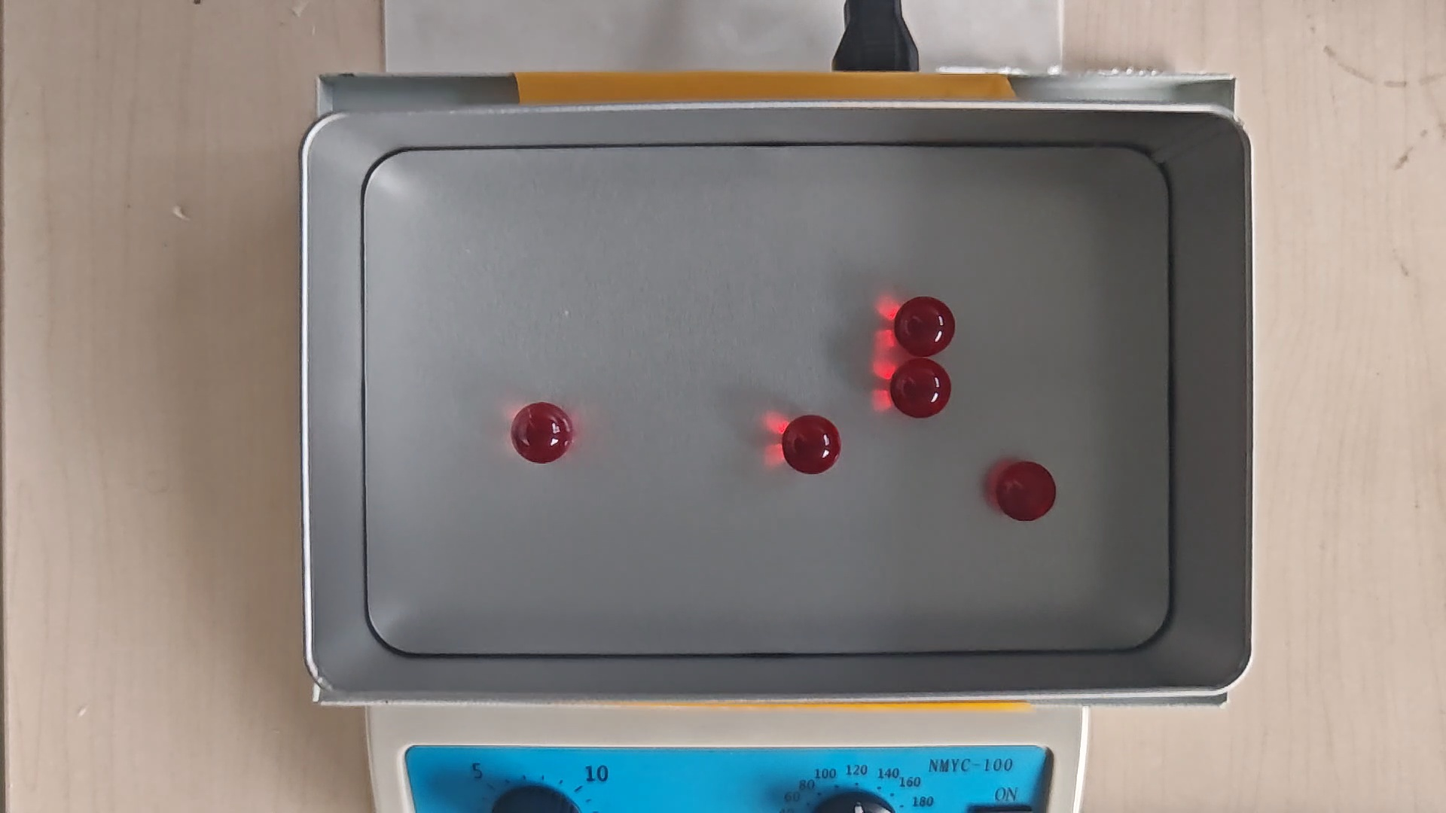ball: (512, 402, 569, 463), (783, 413, 840, 474), (892, 359, 949, 419), (999, 461, 1054, 523), (898, 296, 953, 356)
container: (357, 144, 1169, 654)
